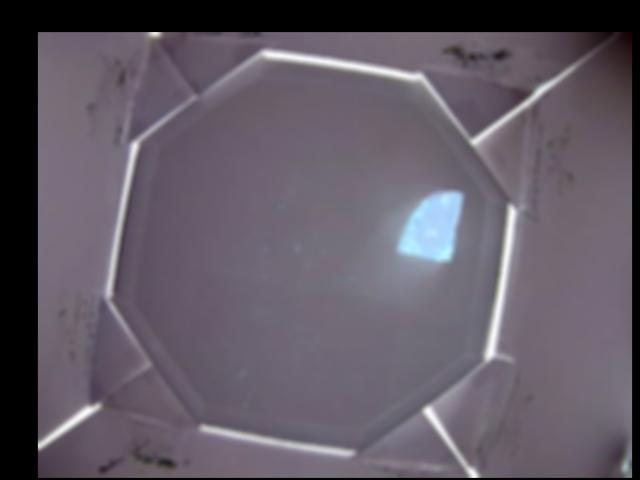Brisk: (397, 188, 466, 261)
